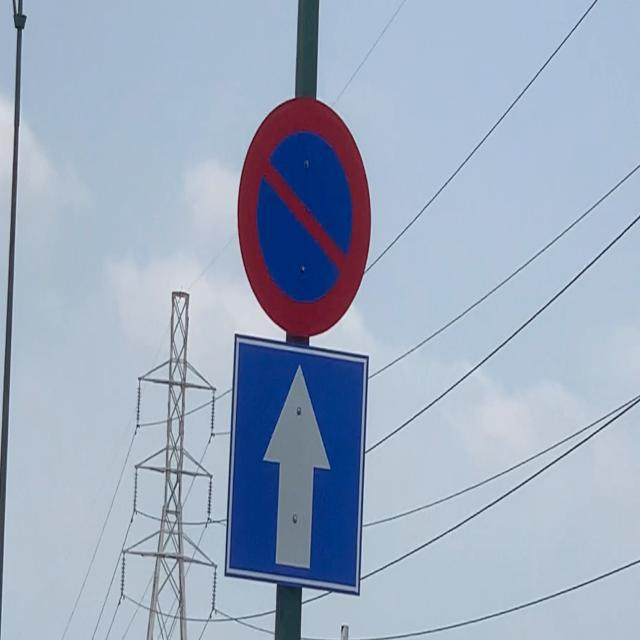Cam do: (237, 95, 372, 339)
Chi dan: (223, 332, 370, 598)
